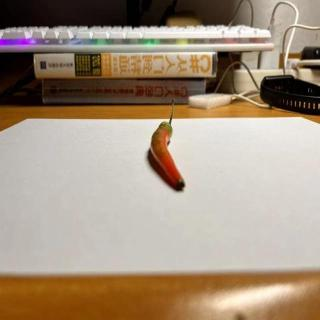Cabai Merah: (150, 98, 186, 192)
